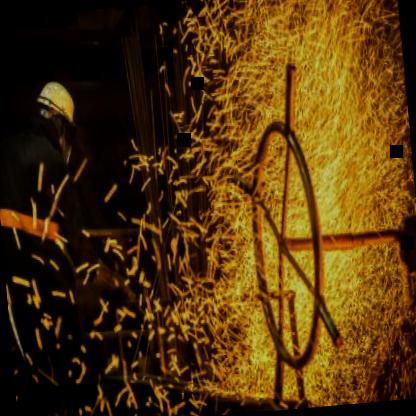helmet: (27, 76, 82, 160)
